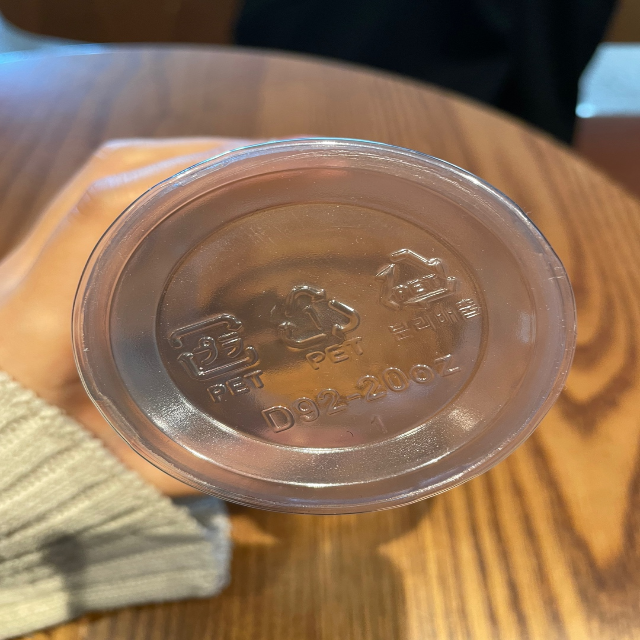pet: (372, 236, 483, 345), (160, 308, 270, 402), (272, 280, 373, 367)
